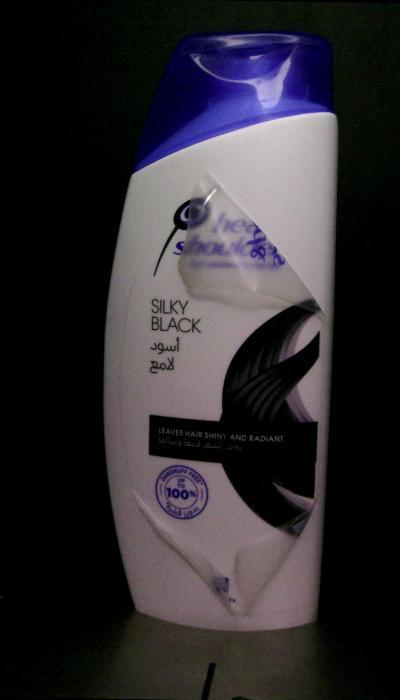adhesion_unacc: (178, 178, 324, 308), (131, 488, 228, 606), (230, 502, 316, 620)
